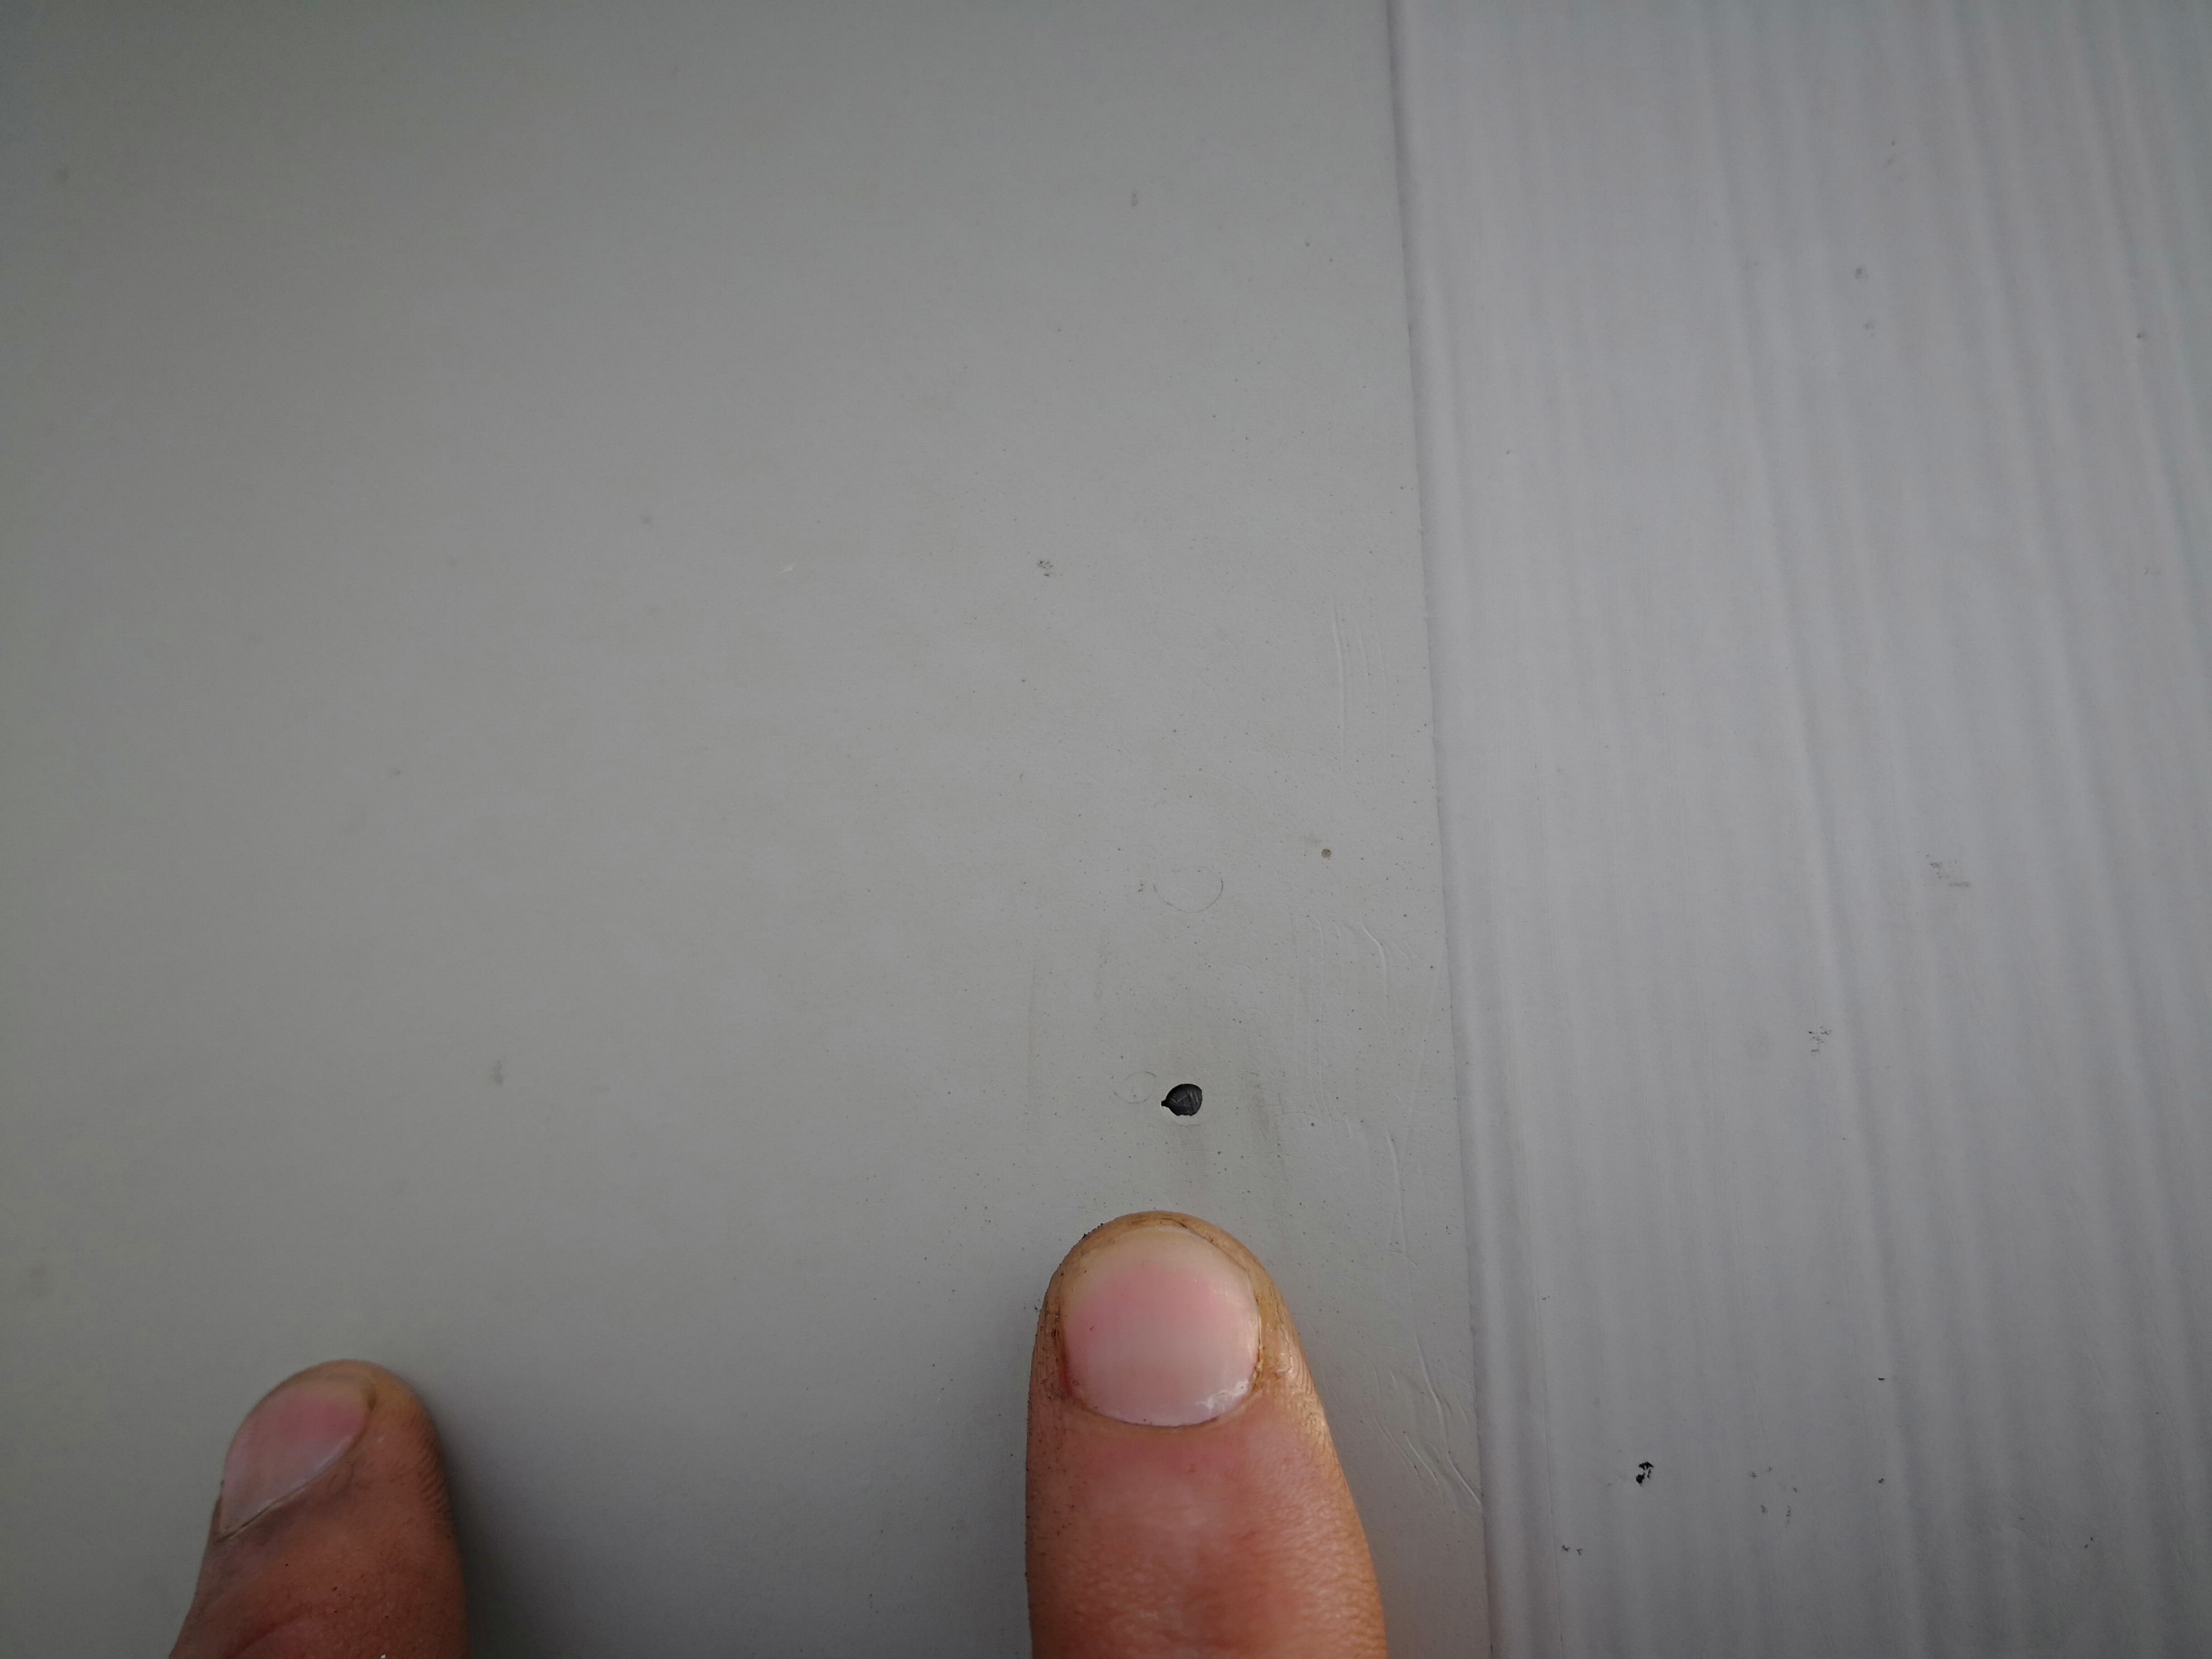SD: (1122, 1061, 1223, 1126), (1163, 859, 1242, 915)
